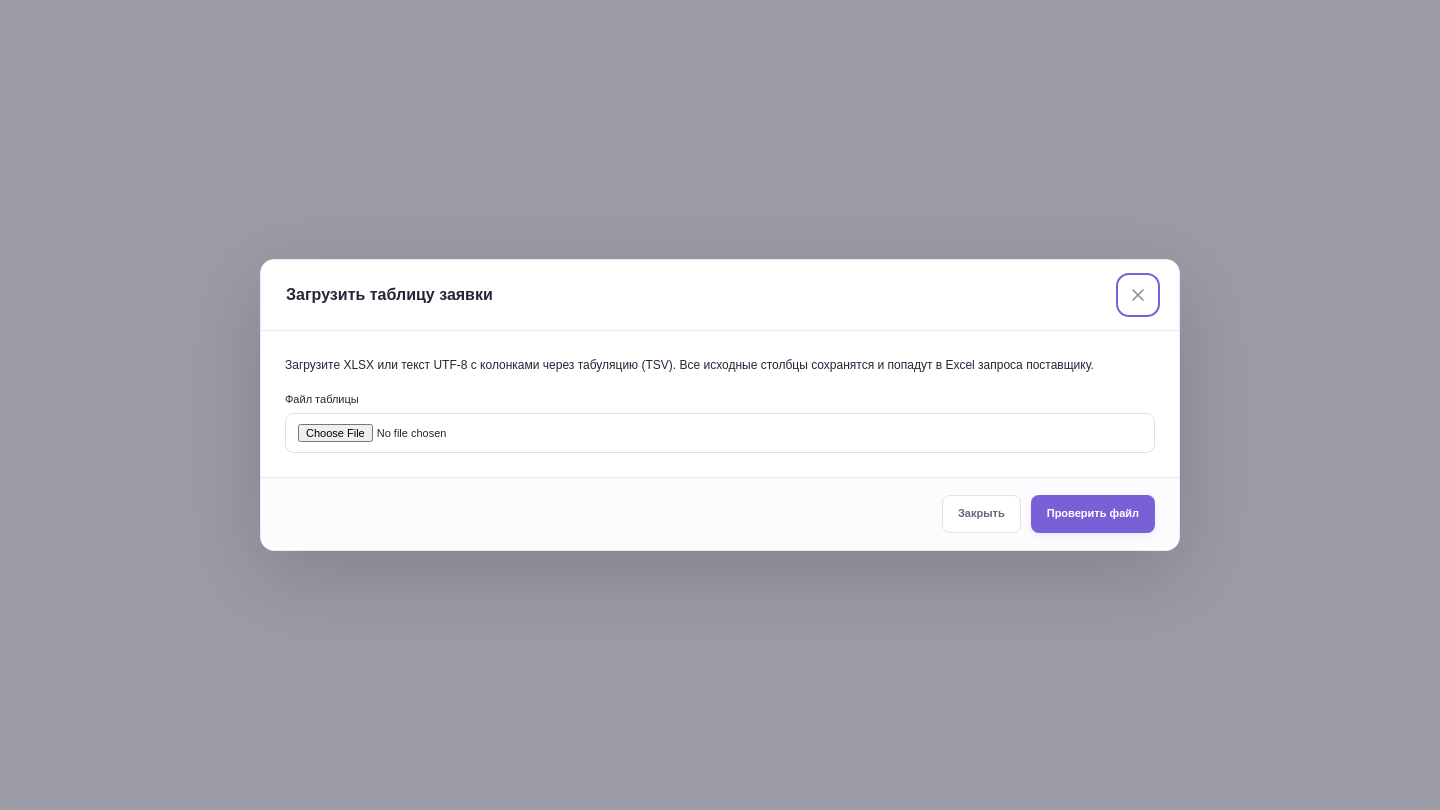
Scenario: removes a row of the checked file before it is written
Earlier steps of the test are not shown.
Submit the form named "Файл таблицы", box x1=261 y1=331 x2=1179 y2=477
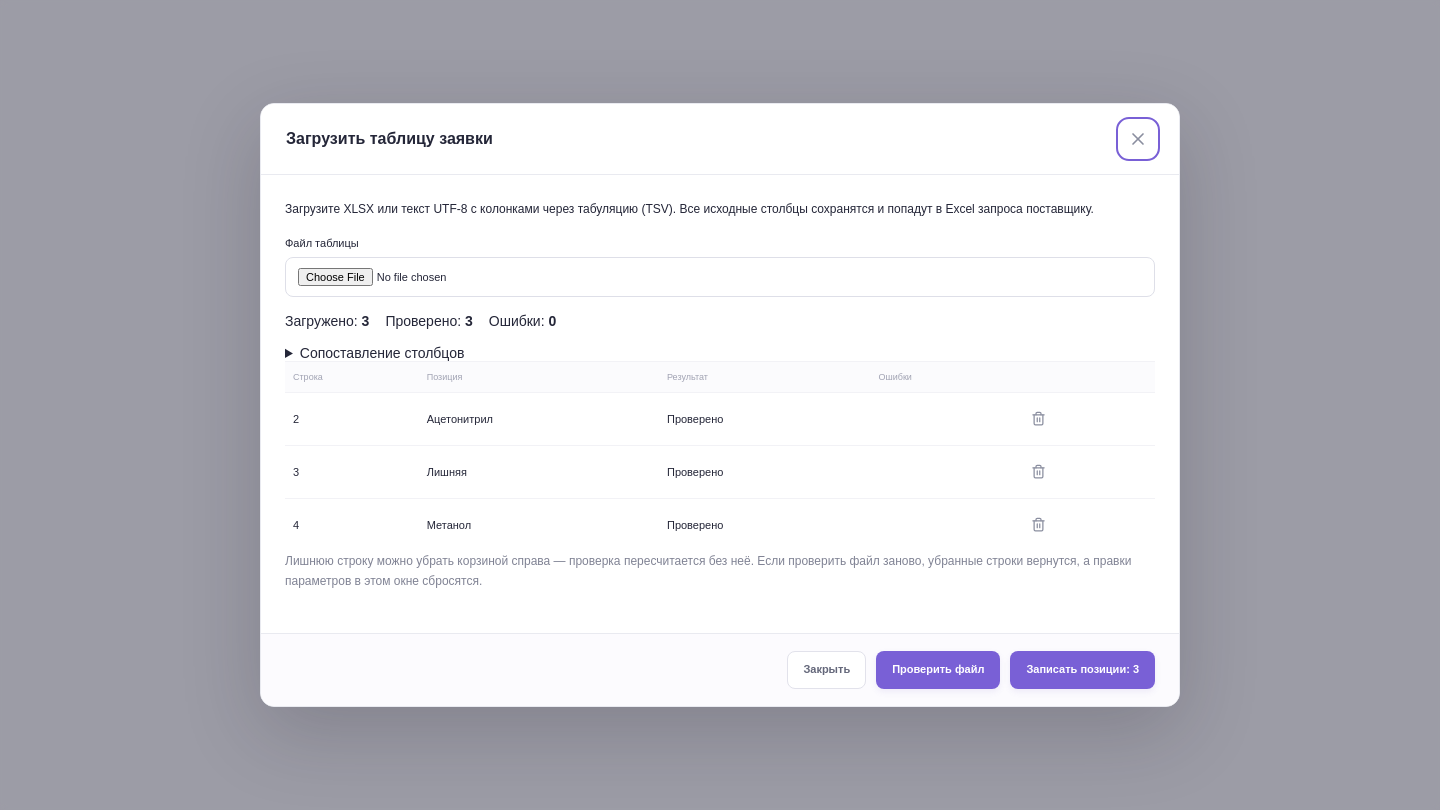
Click the button named "Убрать строку 3" at (1039, 472), box x1=1023 y1=456 x2=1055 y2=488
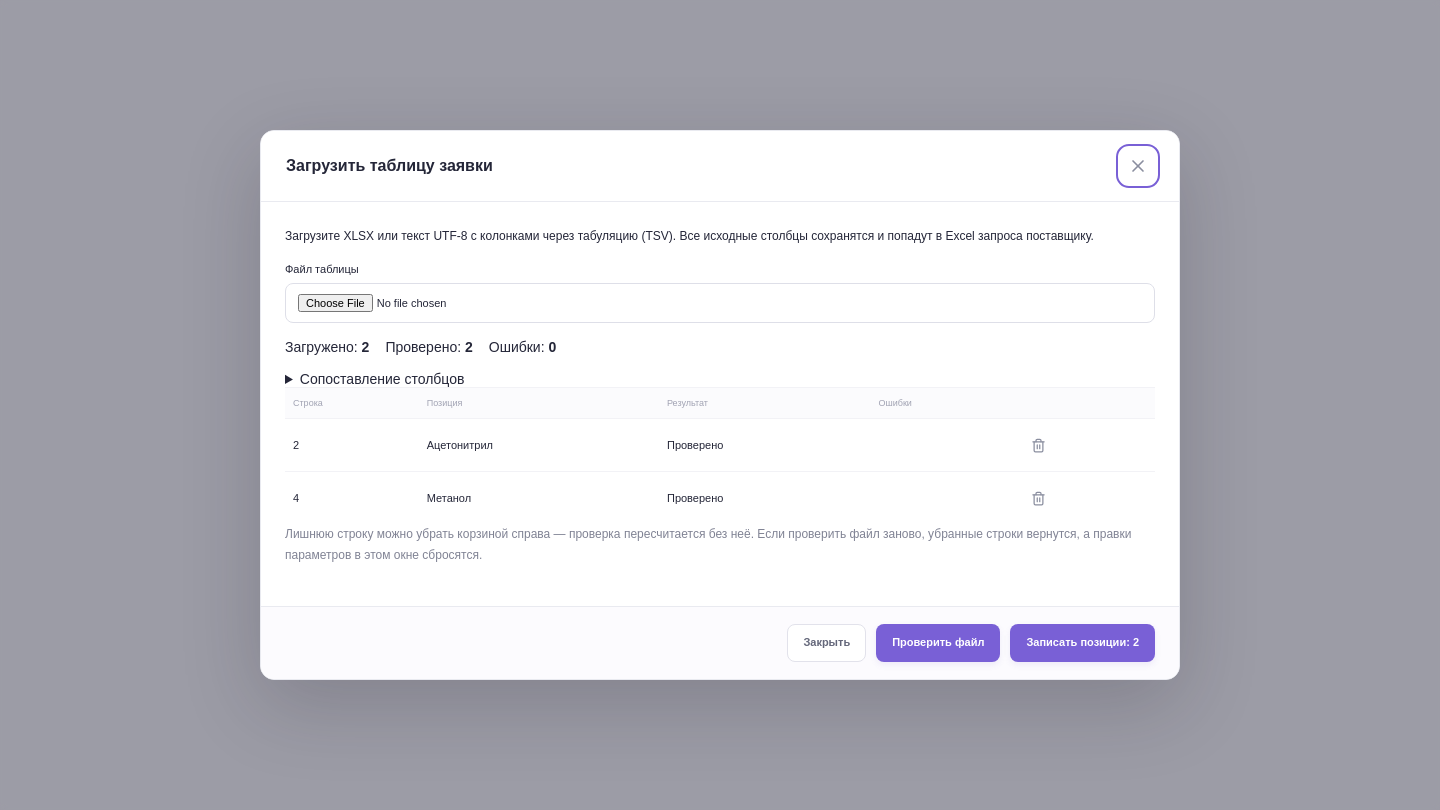
expect the text "Лишняя" is gone: met
expect the button "Записать позиции: 2" is shown: met, box x1=1010 y1=624 x2=1155 y2=662
